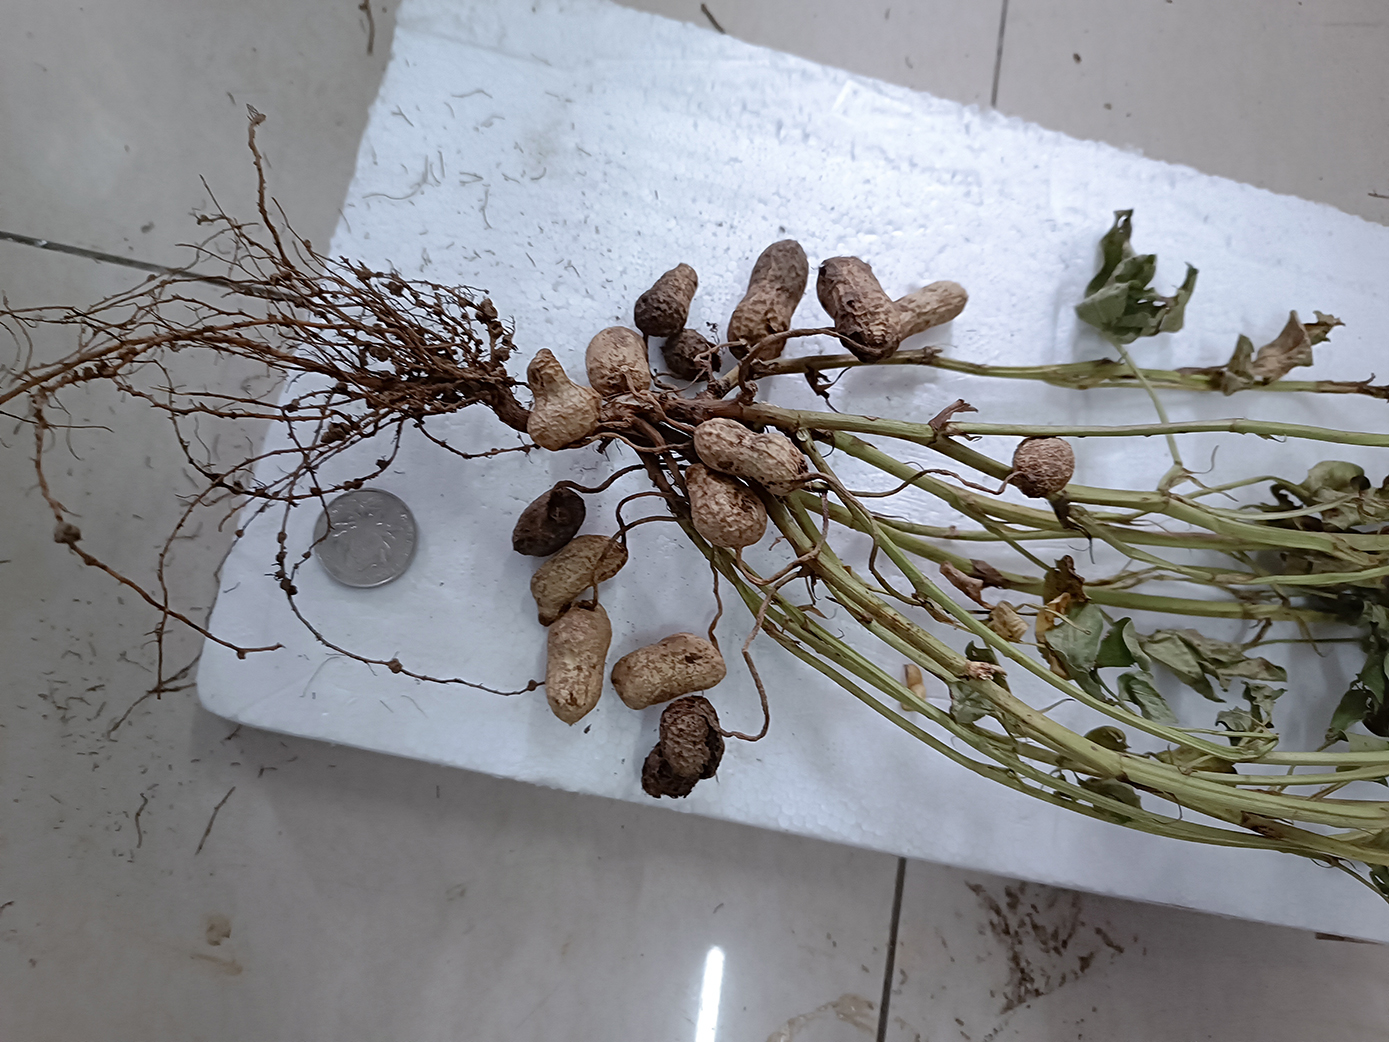h: (691, 416, 805, 500), (612, 632, 730, 711), (530, 532, 625, 624), (545, 601, 607, 732), (687, 459, 769, 549), (525, 348, 597, 451), (587, 324, 650, 389), (892, 280, 965, 334), (1012, 437, 1075, 498)
l: (726, 239, 809, 366), (643, 697, 726, 808), (817, 256, 901, 356), (514, 489, 584, 561), (633, 263, 697, 337), (665, 327, 721, 377)
